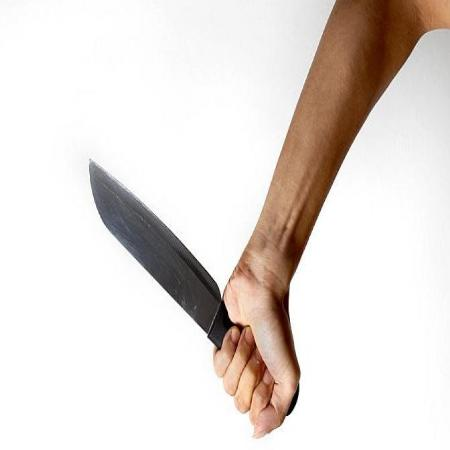long weapon: (84, 148, 268, 412)
